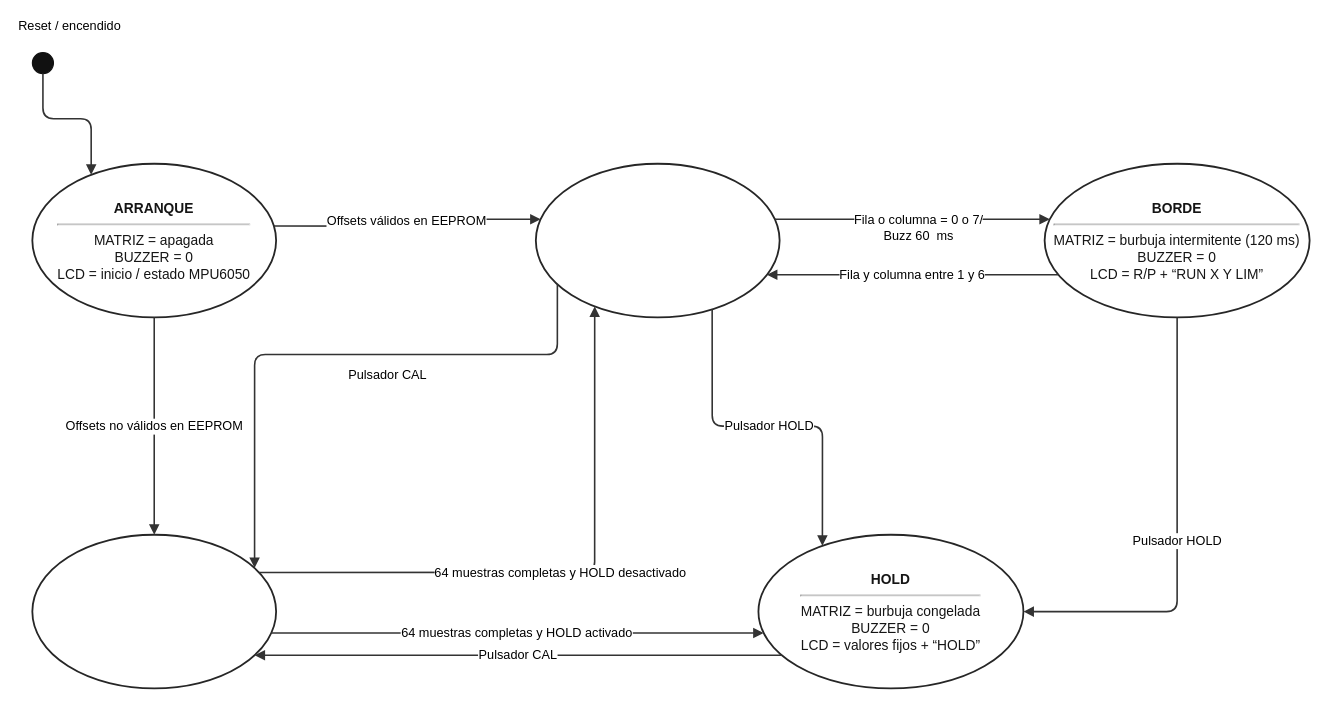
The diagram is 1329 pixels wide and 707 high, and some of its shapes have lost their labels. The centre of each missing label's shape, as x and y in pixels:
CALIBRANDO MATRIZ = 4 LED blancos BUZZER = 0 LCD = “Calibrando...”: the point at 154,611
RUN MATRIZ = burbuja fija (color) BUZZER = 0 LCD = R/P + “RUN X Y”: the point at 657,240
